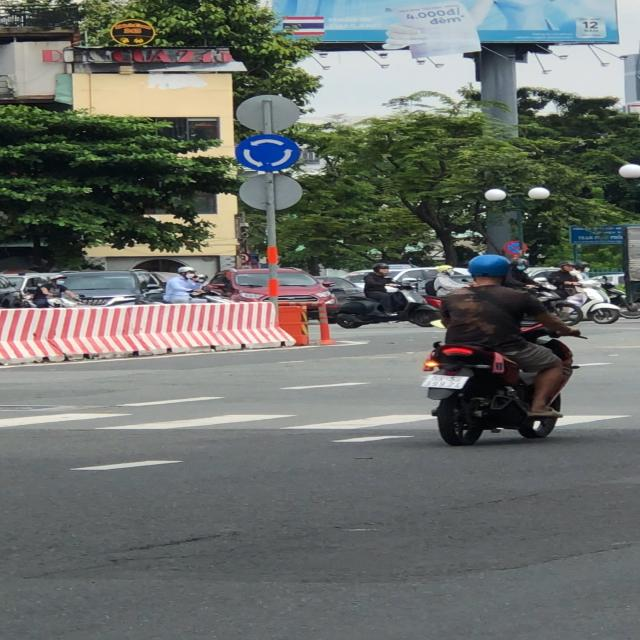Bien bao noi giao nhau chay theo vong xuyen: (232, 131, 312, 173)
